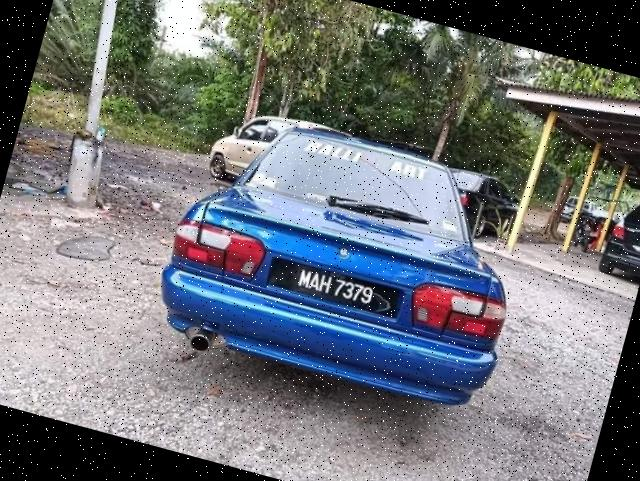License_Plate: (269, 258, 397, 317)
car: (144, 94, 547, 432)
